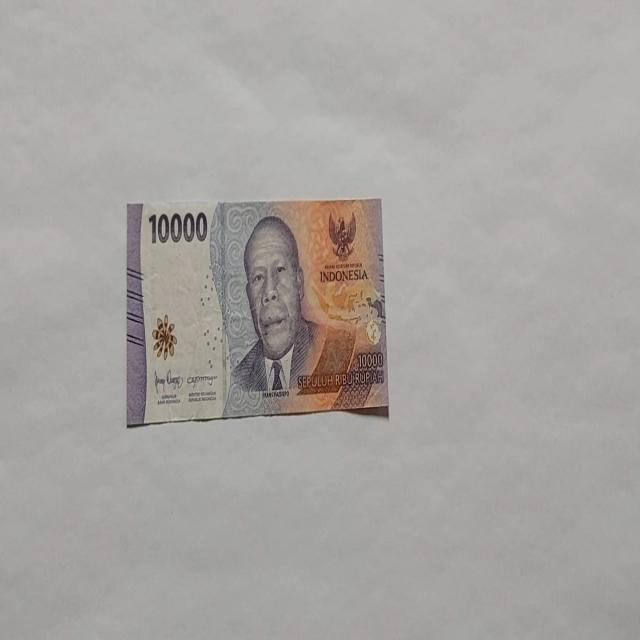sepuluh ribu rupiah: (125, 195, 389, 428), (227, 214, 327, 398)
